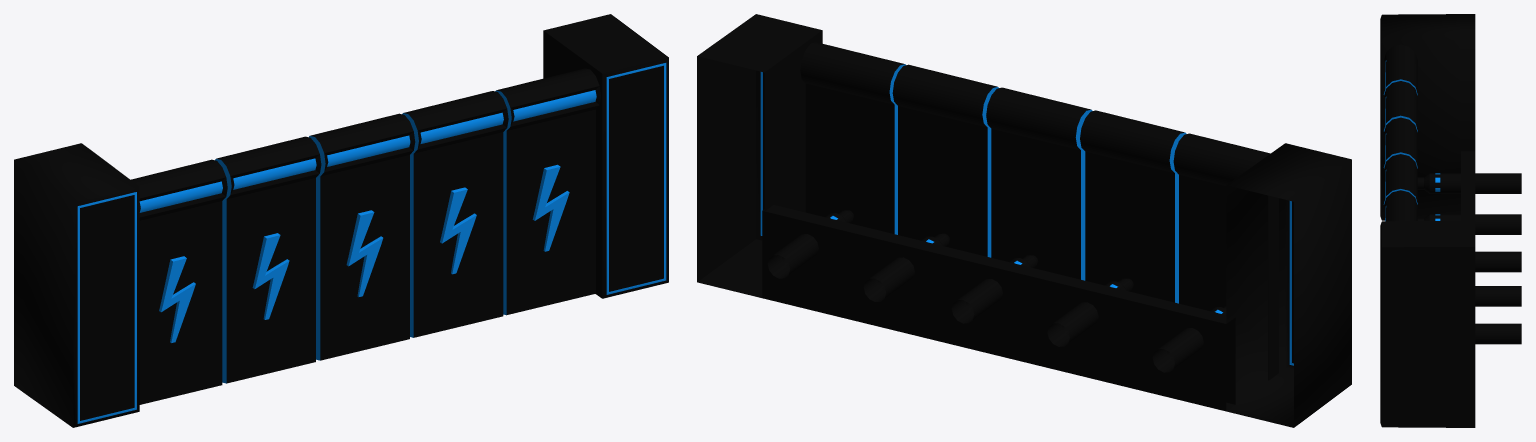
The model's file is Shock press.FBX.
3 views of the same model, side by side, from view 1: azimuth 30°, elevation 25°; view 2: azimuth 150°, elevation 25°; view 3: azimuth 270°, elevation 25° (orthographic). The views are drawn at different scales.
Visible parts, largest first — view 1: Base_013, Cylinder049, Cylinder045, Cylinder050, Cylinder051, Cylinder042; view 2: Base_013, Cylinder049, Cylinder045, Cylinder050, Cylinder051, Cylinder042, Cylinder123, Cylinder121, Cylinder119, Cylinder125, Cylinder043; view 3: Base_013, Cylinder043, Cylinder045, Cylinder049, Cylinder042, Cylinder119, Cylinder050, Cylinder121, Cylinder125, Cylinder123, Cylinder051.
Part boxes in pixels (x1=…): Base_013: x1=14, y1=14, x2=668, y2=427; Cylinder049: x1=309, y1=113, x2=415, y2=360; Cylinder045: x1=215, y1=136, x2=321, y2=383; Cylinder050: x1=402, y1=91, x2=508, y2=337; Cylinder051: x1=495, y1=68, x2=600, y2=315; Cylinder042: x1=131, y1=159, x2=227, y2=404; Base_013: x1=697, y1=14, x2=1351, y2=427; Cylinder049: x1=986, y1=87, x2=1092, y2=280; Cylinder045: x1=1080, y1=110, x2=1186, y2=303; Cylinder050: x1=892, y1=64, x2=998, y2=257; Cylinder051: x1=800, y1=42, x2=905, y2=234; Cylinder042: x1=1173, y1=133, x2=1278, y2=380; Cylinder123: x1=863, y1=236, x2=942, y2=301; Cylinder121: x1=952, y1=258, x2=1030, y2=323; Cylinder119: x1=1047, y1=281, x2=1125, y2=346; Cylinder125: x1=767, y1=213, x2=845, y2=278; Cylinder043: x1=1152, y1=307, x2=1226, y2=372; Base_013: x1=1380, y1=14, x2=1475, y2=427; Cylinder043: x1=1424, y1=173, x2=1521, y2=193; Cylinder045: x1=1384, y1=81, x2=1417, y2=131; Cylinder049: x1=1383, y1=117, x2=1417, y2=168; Cylinder042: x1=1383, y1=44, x2=1417, y2=95; Cylinder119: x1=1424, y1=214, x2=1521, y2=234; Cylinder050: x1=1383, y1=154, x2=1417, y2=204; Cylinder121: x1=1475, y1=251, x2=1521, y2=272; Cylinder125: x1=1475, y1=323, x2=1521, y2=344; Cylinder123: x1=1475, y1=286, x2=1521, y2=306; Cylinder051: x1=1384, y1=190, x2=1417, y2=221.
Size of the model in its own units: 579 by 212 by 148.
